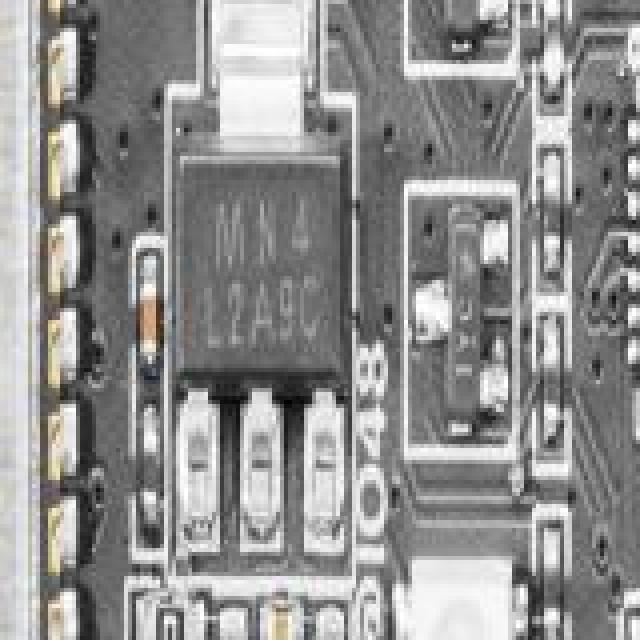IC: (172, 108, 354, 518), (0, 0, 52, 640), (636, 48, 640, 432)
LED: (404, 564, 520, 640)
capacitor: (140, 384, 162, 524), (132, 264, 162, 362), (264, 604, 296, 640), (624, 608, 640, 640), (312, 632, 352, 640), (216, 636, 248, 640)
resistor: (540, 168, 562, 286), (544, 540, 564, 640), (544, 16, 562, 94), (152, 612, 196, 640), (548, 340, 558, 430)
transistor: (416, 184, 508, 434), (424, 0, 500, 20)
